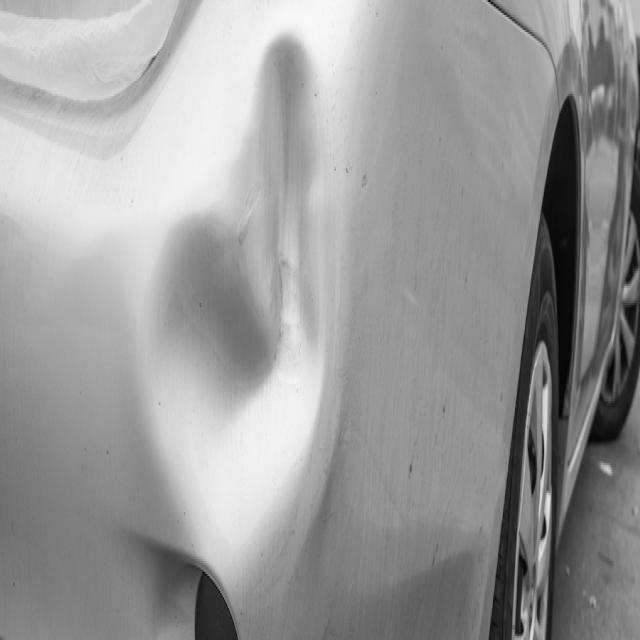dent: (132, 10, 349, 599)
scratch: (138, 48, 161, 83)
